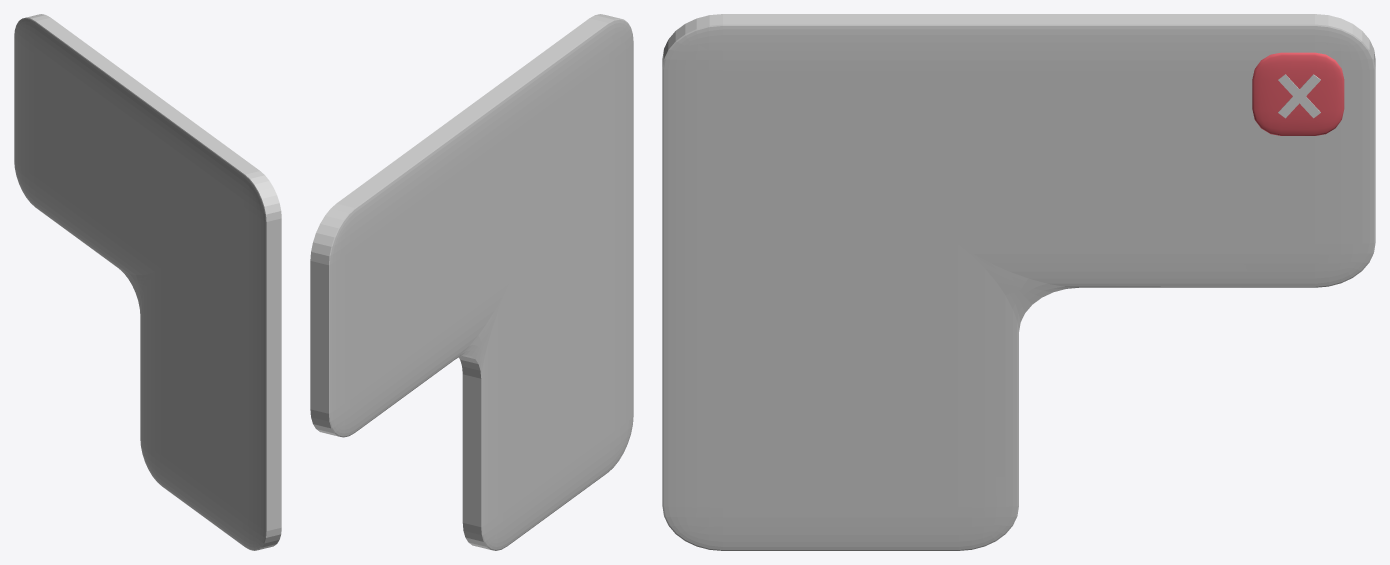
File: panel_done4.glb
3 views of the same model, side by side, from view 1: azimuth 30°, elevation 25°; view 2: azimuth 150°, elevation 25°; view 3: azimuth 270°, elevation 25° (orthographic). The views are drawn at different scales.
Visible parts, largest first — view 1: Cube.003; view 2: Cube.003; view 3: Cube.003, Cube.005, Cube.007.
Part boxes in pixels (<box>): Cube.003: <box>14,14,281,550</box>; Cube.003: <box>310,14,633,550</box>; Cube.003: <box>662,14,1375,550</box>; Cube.005: <box>1252,52,1344,135</box>; Cube.007: <box>1278,74,1320,118</box>.
Bounding box in the file's own units: 0.1747 × 2.85 × 3.5.
